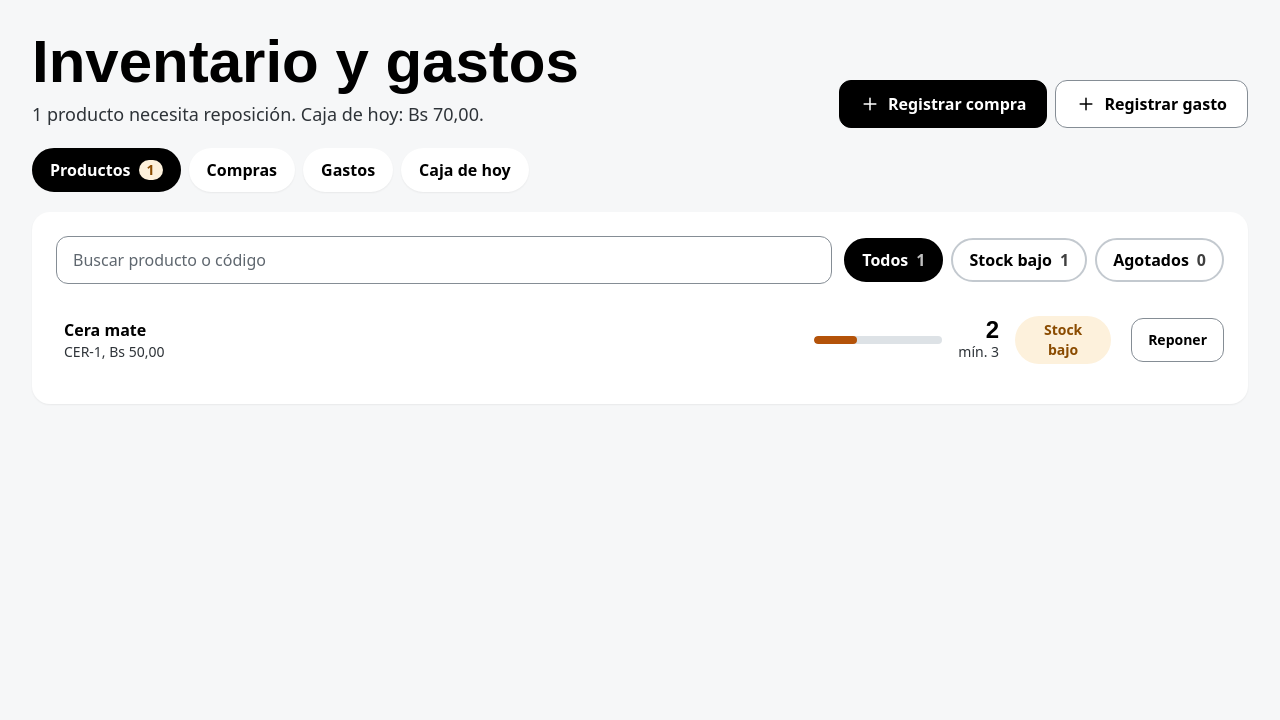
InventoryPage › shows each product state and opens its sheet with the movement history
Expected: the text "1 producto necesita reposición." is shown, [32,102,296,126]
Expected: the button "Stock bajo 1" is shown, [952,238,1087,282]
Click the button "Cera mate CER-1, Bs 50,00 2 mín. 3 Stock bajo" at (105, 330), box [56,308,1119,372]
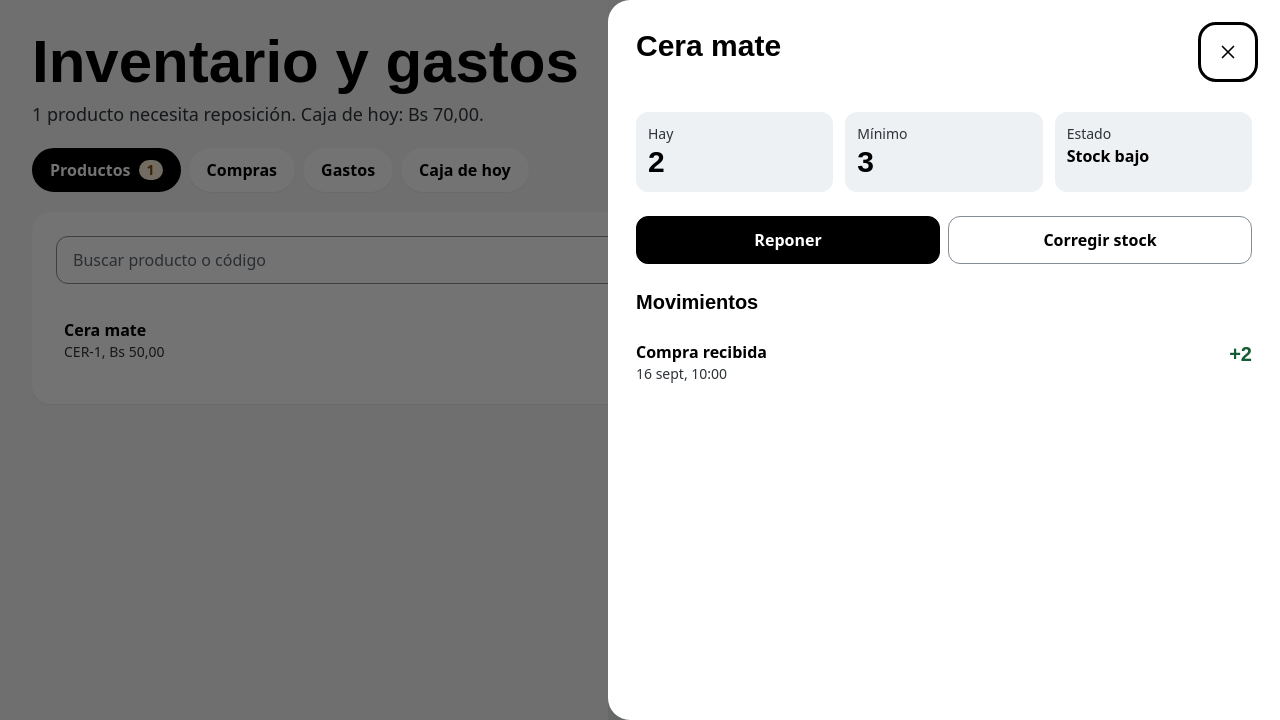
Now the text "Compra recibida" is shown, box [636,340,767,364]
Now the text "+2" is shown, box [1229,340,1252,368]
